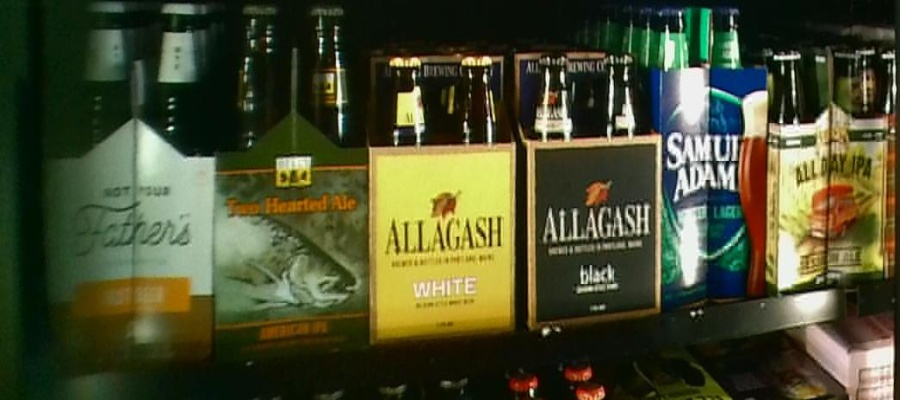bottle: (45, 7, 214, 364), (214, 2, 371, 357), (376, 36, 517, 338), (517, 50, 659, 328), (656, 7, 767, 305), (769, 46, 897, 288)
